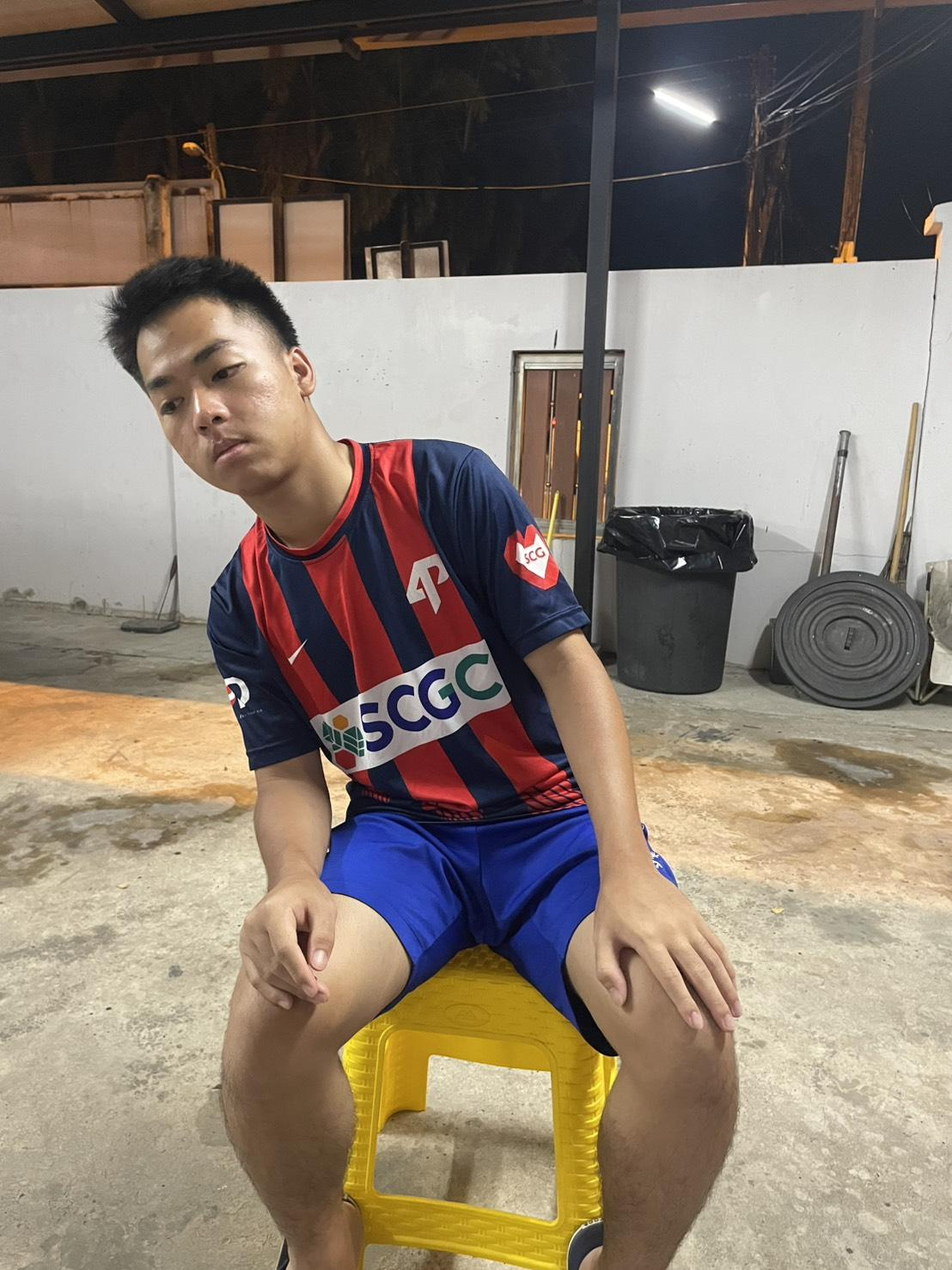BadPosture: (106, 258, 627, 841)
